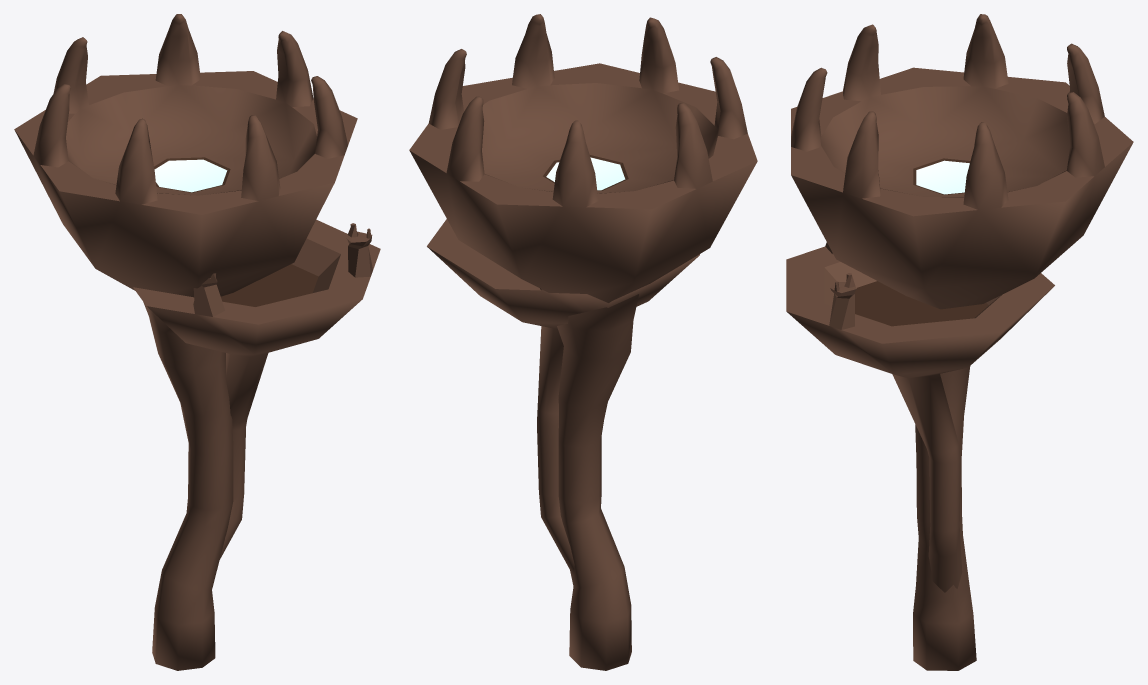
The model's file is LinkTorch.fbx.
The picture shows the model from 3 angles, left to right: view 1: azimuth 30°, elevation 25°; view 2: azimuth 150°, elevation 25°; view 3: azimuth 270°, elevation 25°; orthographic projection. The views are drawn at different scales.
Parts seen in each view (by area): view 1: Link Twig 3, Link Twig 2; view 2: Link Twig 3, Link Twig 2; view 3: Link Twig 3, Link Twig 2.
Part boxes in pixels (<box>): Link Twig 3: <box>14,14,357,670</box>; Link Twig 2: <box>133,219,380,559</box>; Link Twig 3: <box>409,14,757,670</box>; Link Twig 2: <box>427,219,699,576</box>; Link Twig 3: <box>791,14,1133,670</box>; Link Twig 2: <box>786,242,1054,592</box>.
Bounding box in the file's own units: 21.02 × 38.26 × 20.25.
